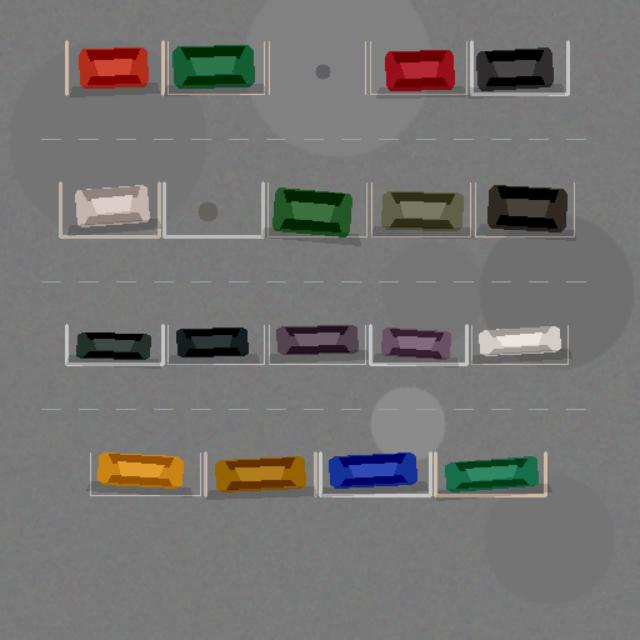space-empty: (164, 182, 263, 236), (269, 41, 365, 94)
space-occupied: (60, 182, 159, 236), (267, 182, 366, 236), (371, 182, 470, 236), (475, 182, 574, 236), (66, 41, 163, 94), (167, 41, 264, 94), (370, 41, 466, 94), (471, 41, 567, 94), (90, 452, 200, 495), (205, 452, 315, 495), (320, 452, 430, 495), (435, 452, 545, 495), (66, 325, 163, 364), (167, 325, 264, 364), (269, 325, 365, 364), (370, 325, 466, 364), (471, 325, 567, 364)
